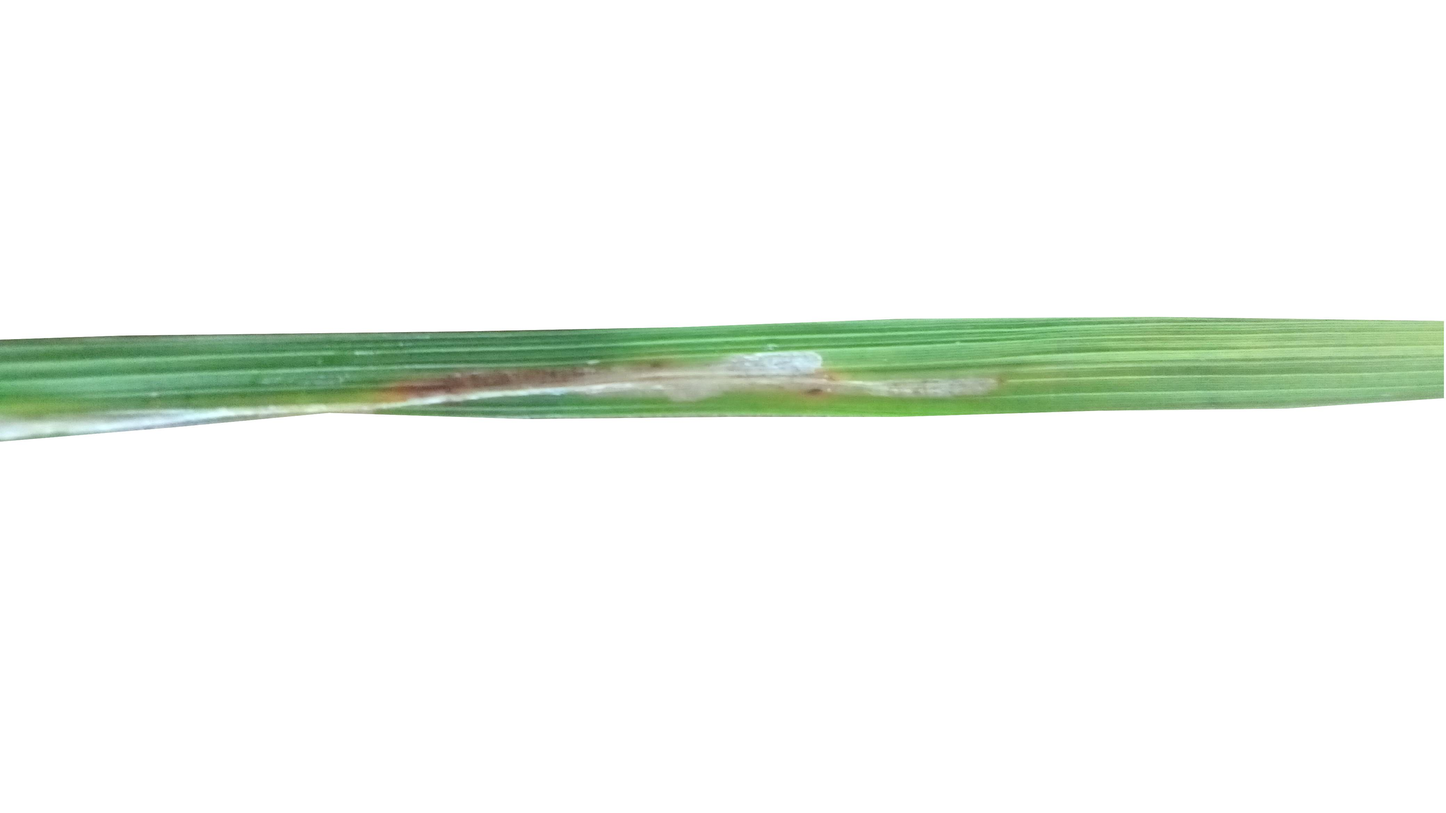Blight: (379, 370, 1010, 405), (711, 342, 827, 415)
